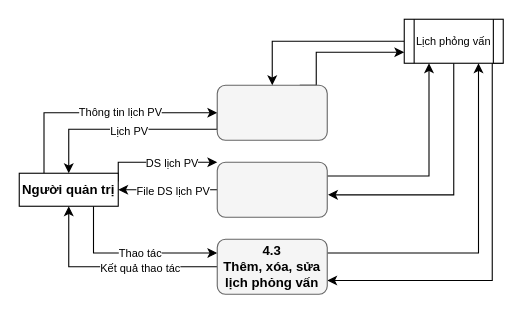
The diagram is 531 pixels wide and 314 high, and some of its shapes have lost their labels. The centre of each missing label's shape, as x and y in pixels:
4.1 In, xuất file danh sách lịch phỏng vấn: (271,189)
4.1 Tìm kiếm lịch phỏng vấn: (271,112)
